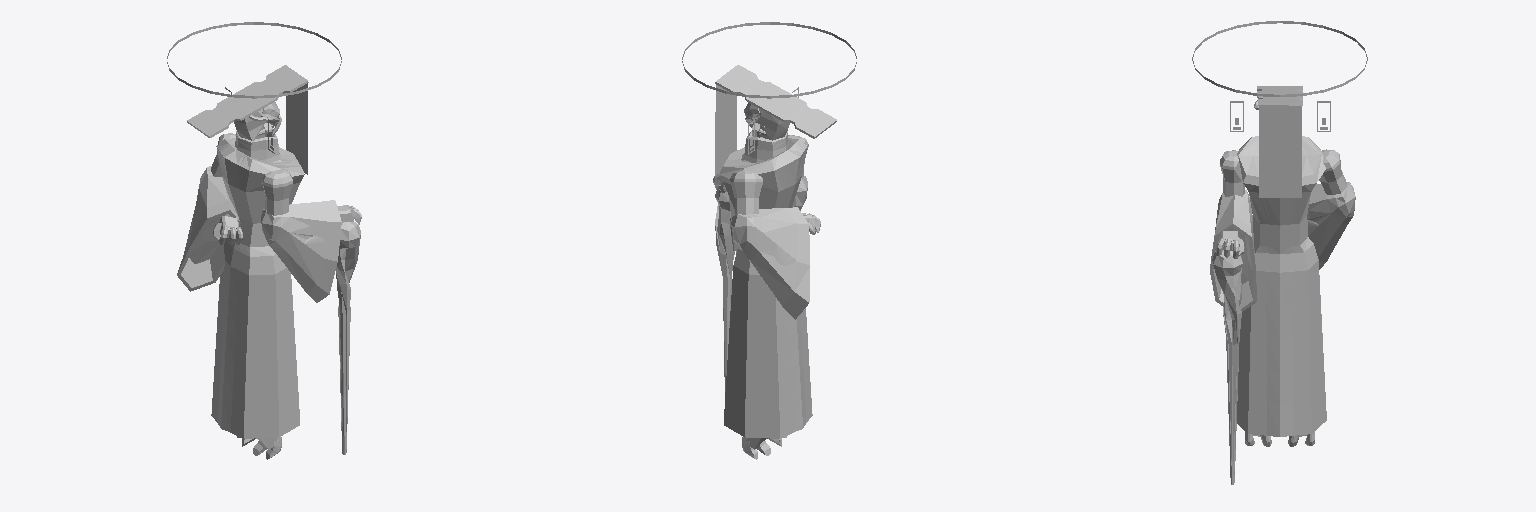
Rendered from drizzle.obj.
The picture shows the model from 3 angles: view 1: azimuth 30°, elevation 25°; view 2: azimuth 150°, elevation 25°; view 3: azimuth 270°, elevation 25°; orthographic projection.
Visible parts, largest first — view 1: DRIZZLE; view 2: DRIZZLE; view 3: DRIZZLE.
Boxes of the visible parts, x1,y1,x2,y2 form: DRIZZLE: [167, 22, 361, 459]; DRIZZLE: [682, 22, 856, 459]; DRIZZLE: [1192, 21, 1367, 484].
Bounding box in the file's own units: 0.9059 × 2.2 × 0.8866.